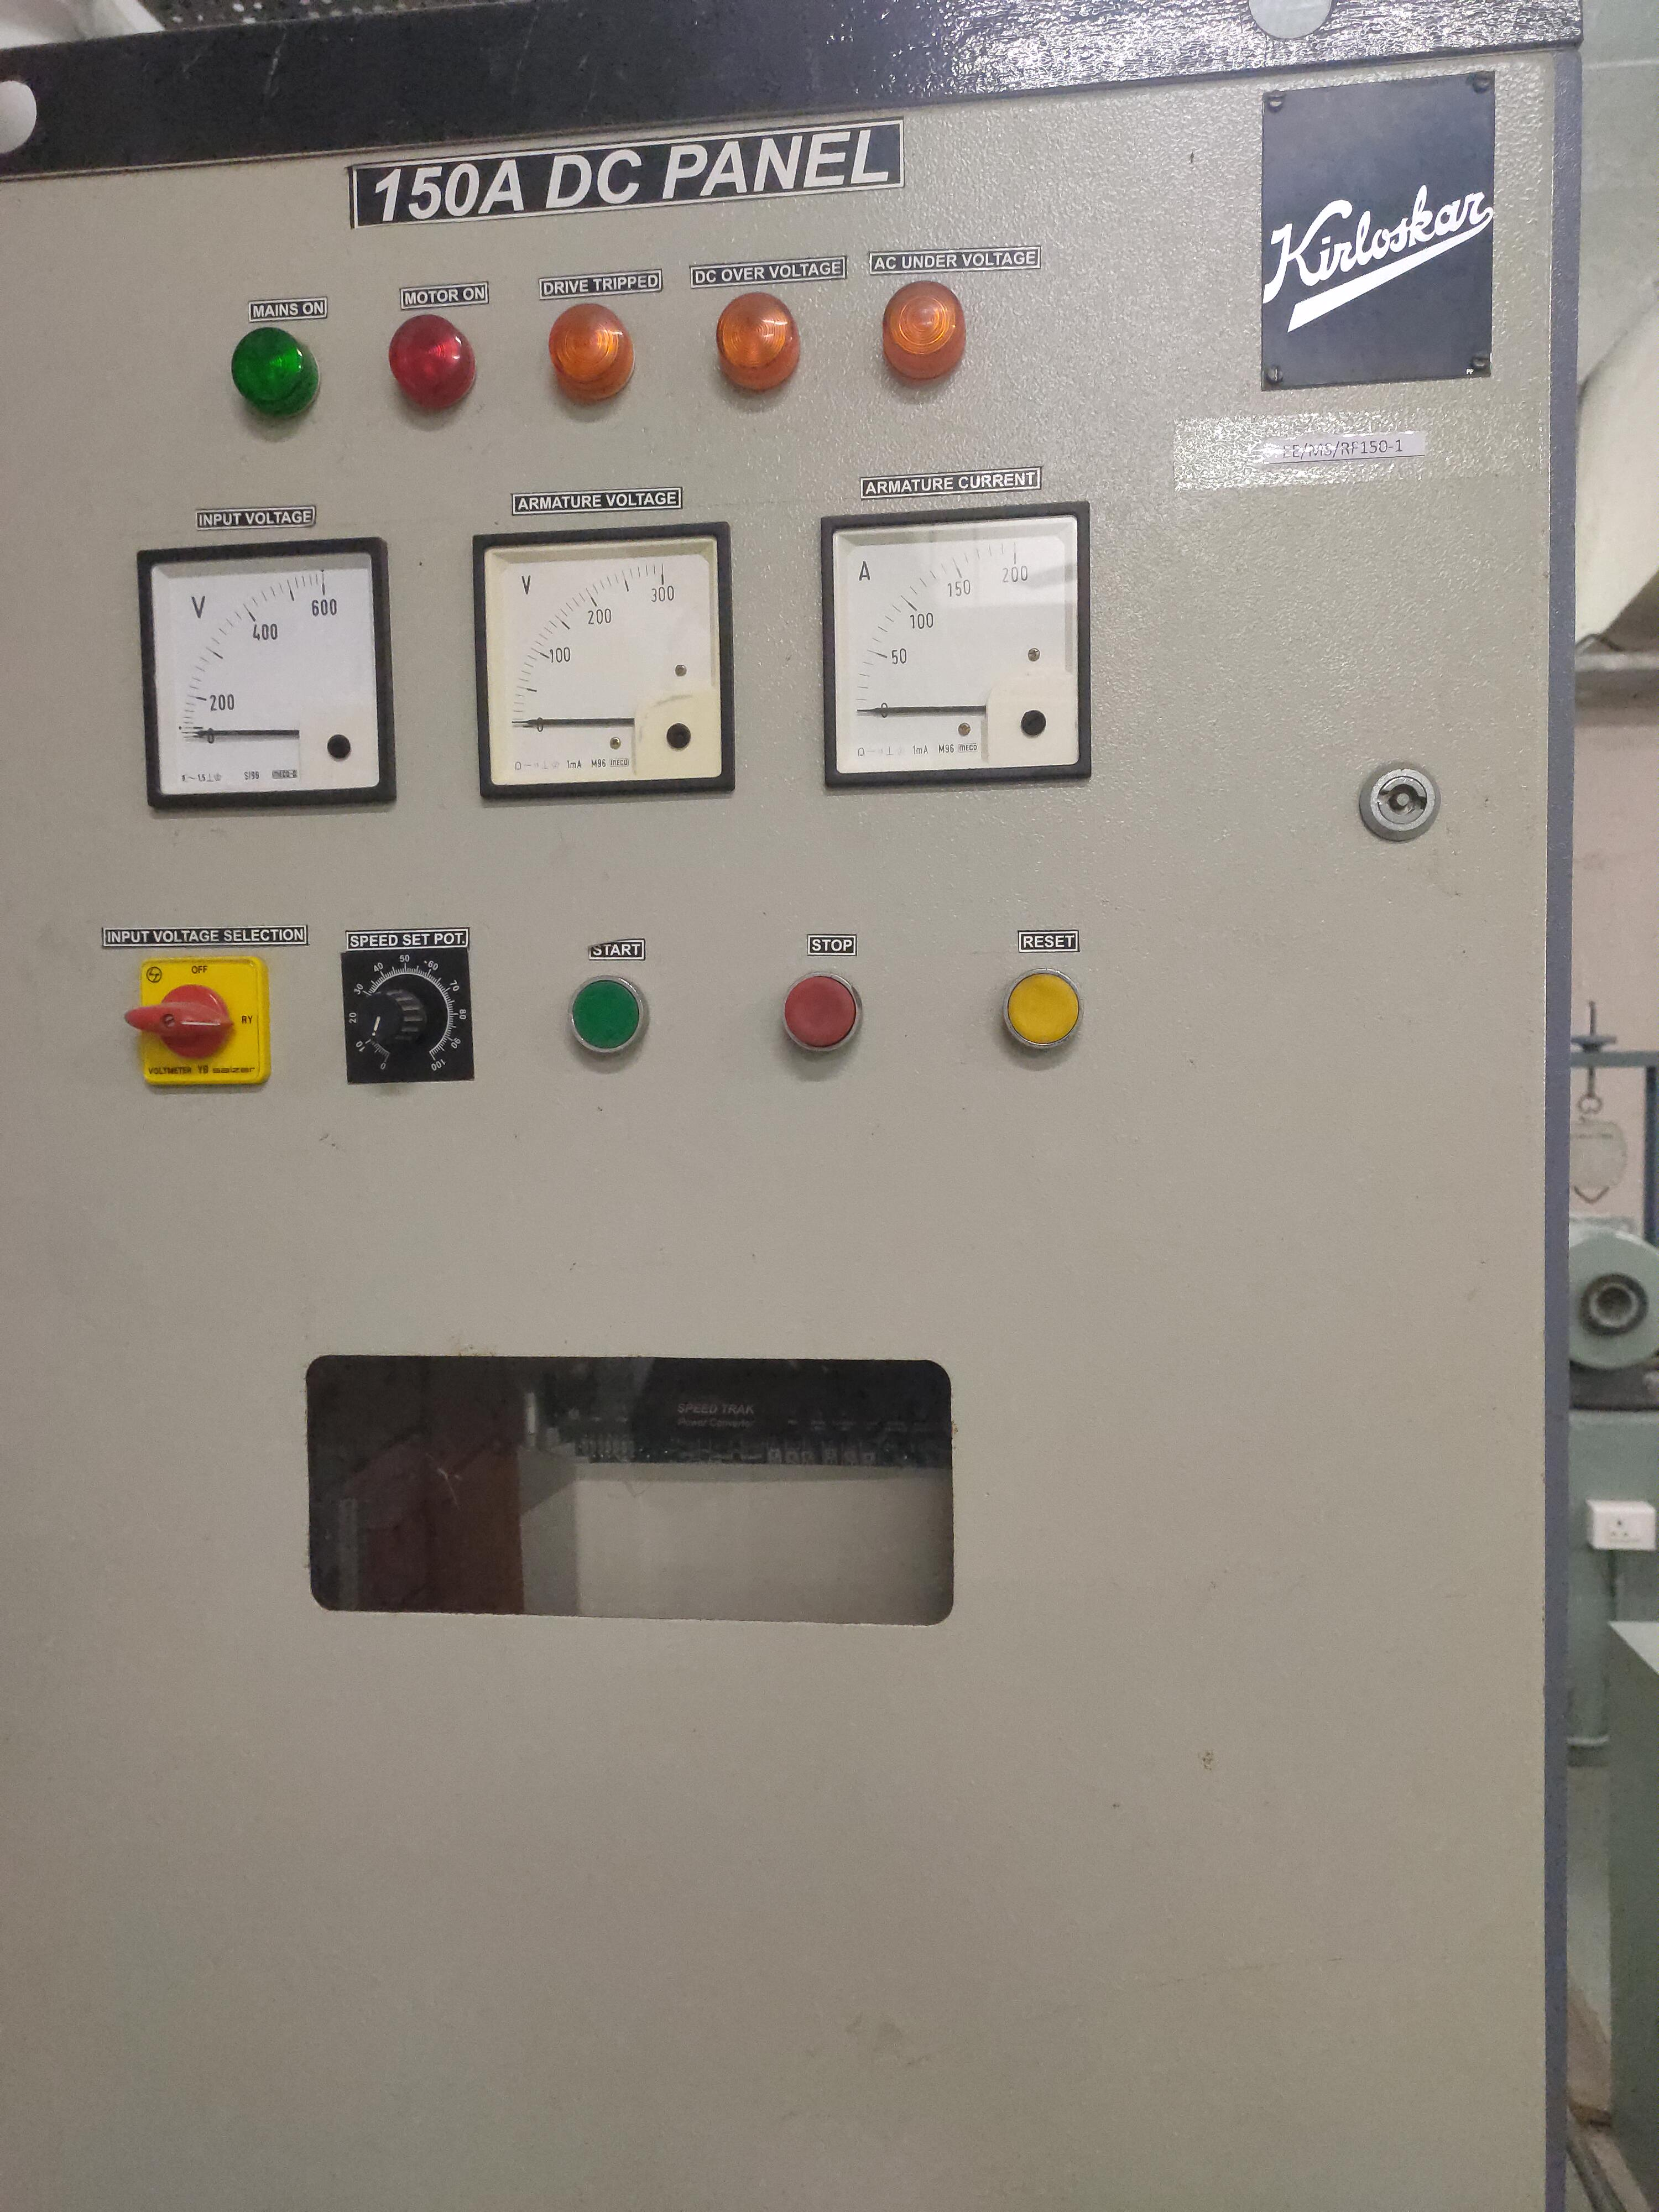Light Indications: (178, 251, 1006, 449)
